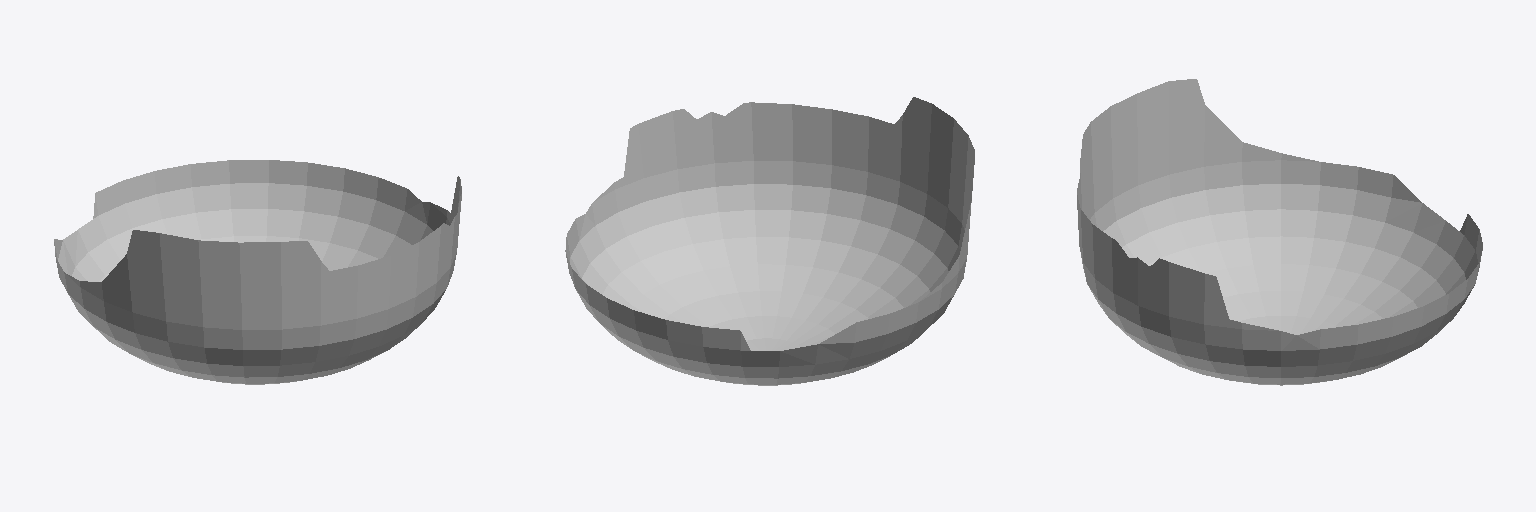
File: SM_Terrain_UnderTutoBase_1.1.obj
3 renders of one model, left to right at view 1: azimuth 30°, elevation 25°; view 2: azimuth 150°, elevation 25°; view 3: azimuth 270°, elevation 25°, orthographic.
Parts seen in each view (by area): view 1: Sphere; view 2: Sphere; view 3: Sphere.
Part boxes in pixels (bbox=[...]): Sphere: bbox=[54, 160, 461, 384]; Sphere: bbox=[565, 97, 974, 385]; Sphere: bbox=[1077, 79, 1482, 385].
Bounding box in the file's own units: 123 × 67.75 × 124.